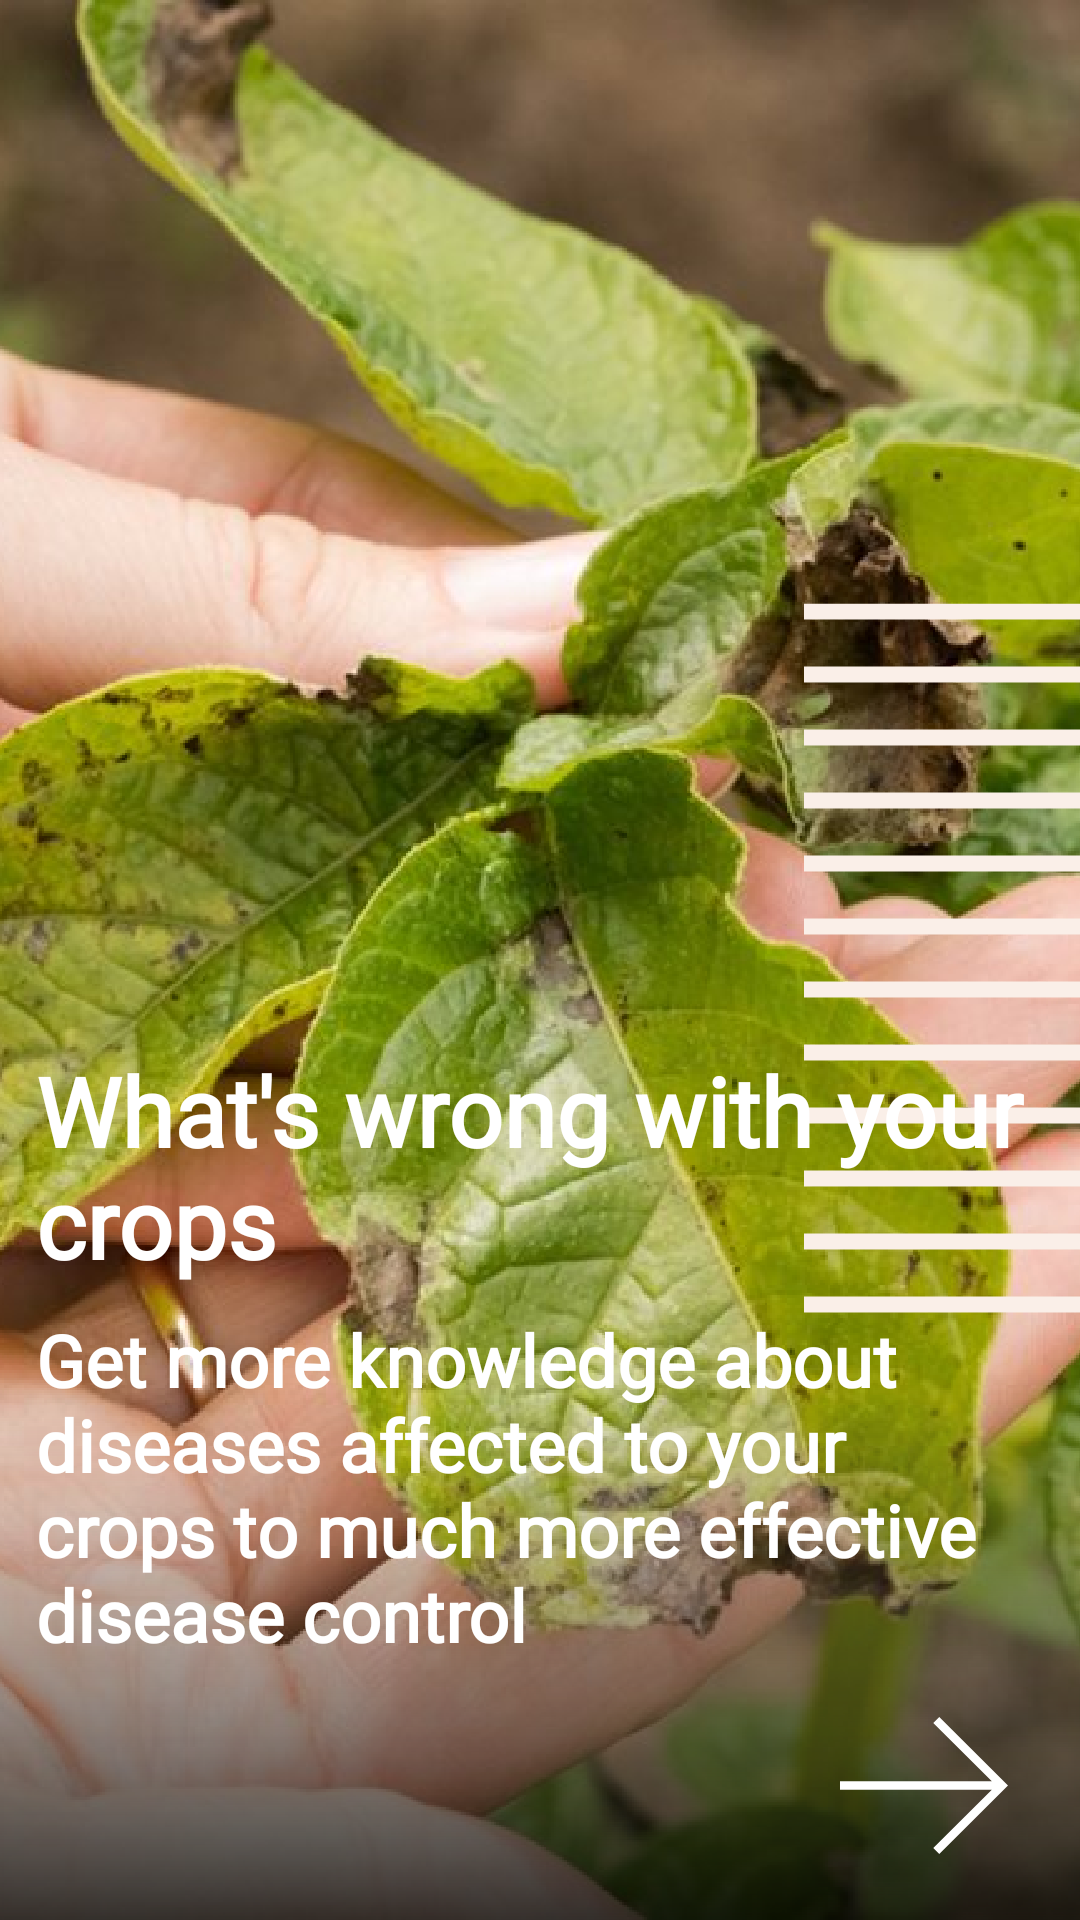

Named icons in this screenshot (1080x1920) and their centers, (x,y):
planter arrow: (924,1785)
